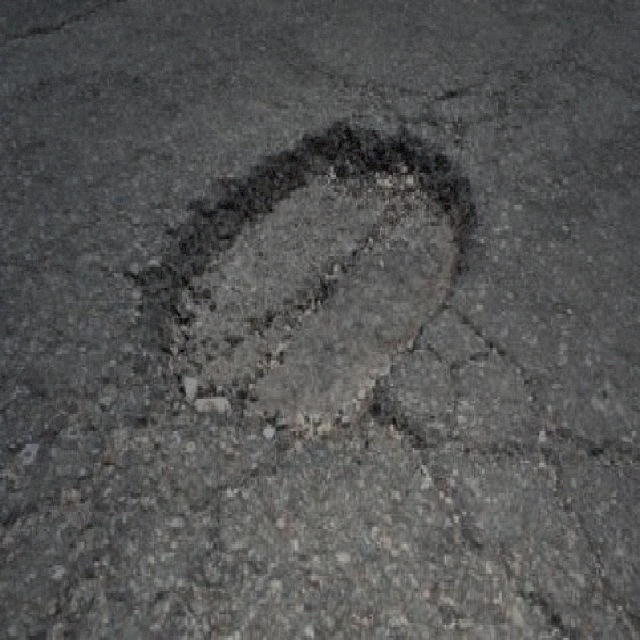pothole: (130, 113, 479, 444)
